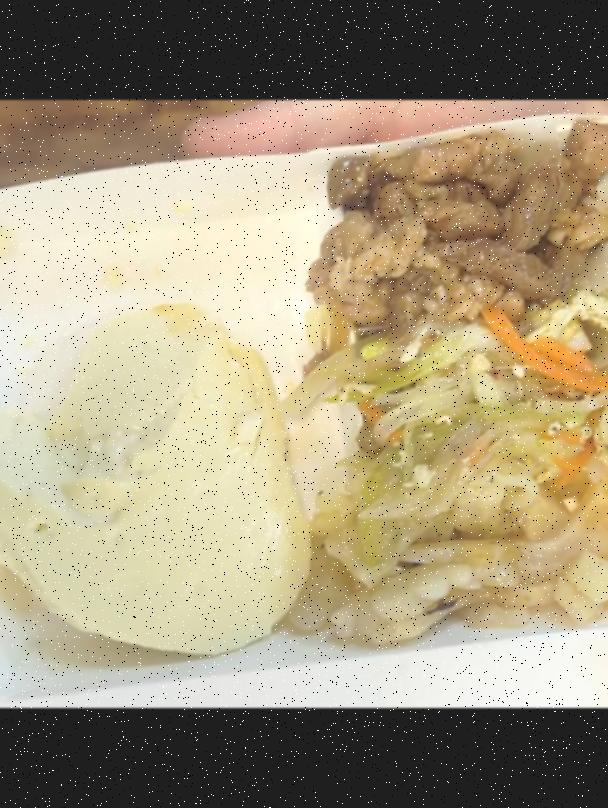big grilled chicken leg: (0, 106, 608, 667)
braised fish fillet: (0, 297, 319, 656), (300, 463, 608, 643), (327, 308, 608, 481)
braised pork: (318, 114, 608, 327)
